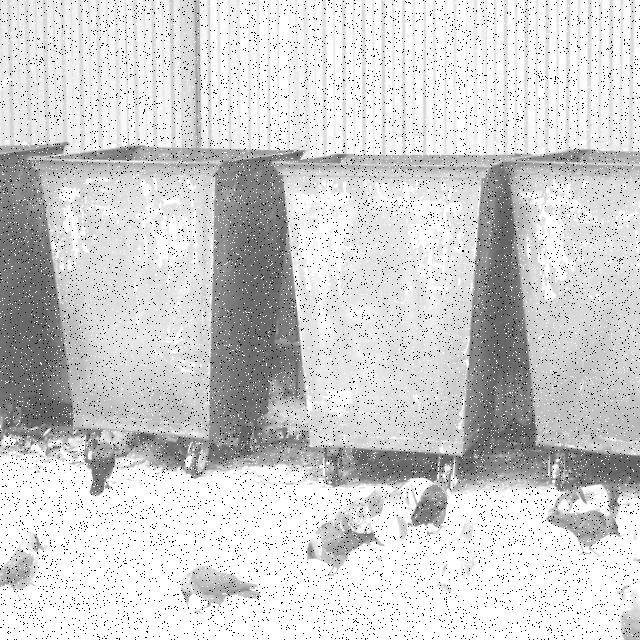Trashcan: (270, 106, 539, 512), (22, 127, 312, 469), (517, 89, 640, 540)
